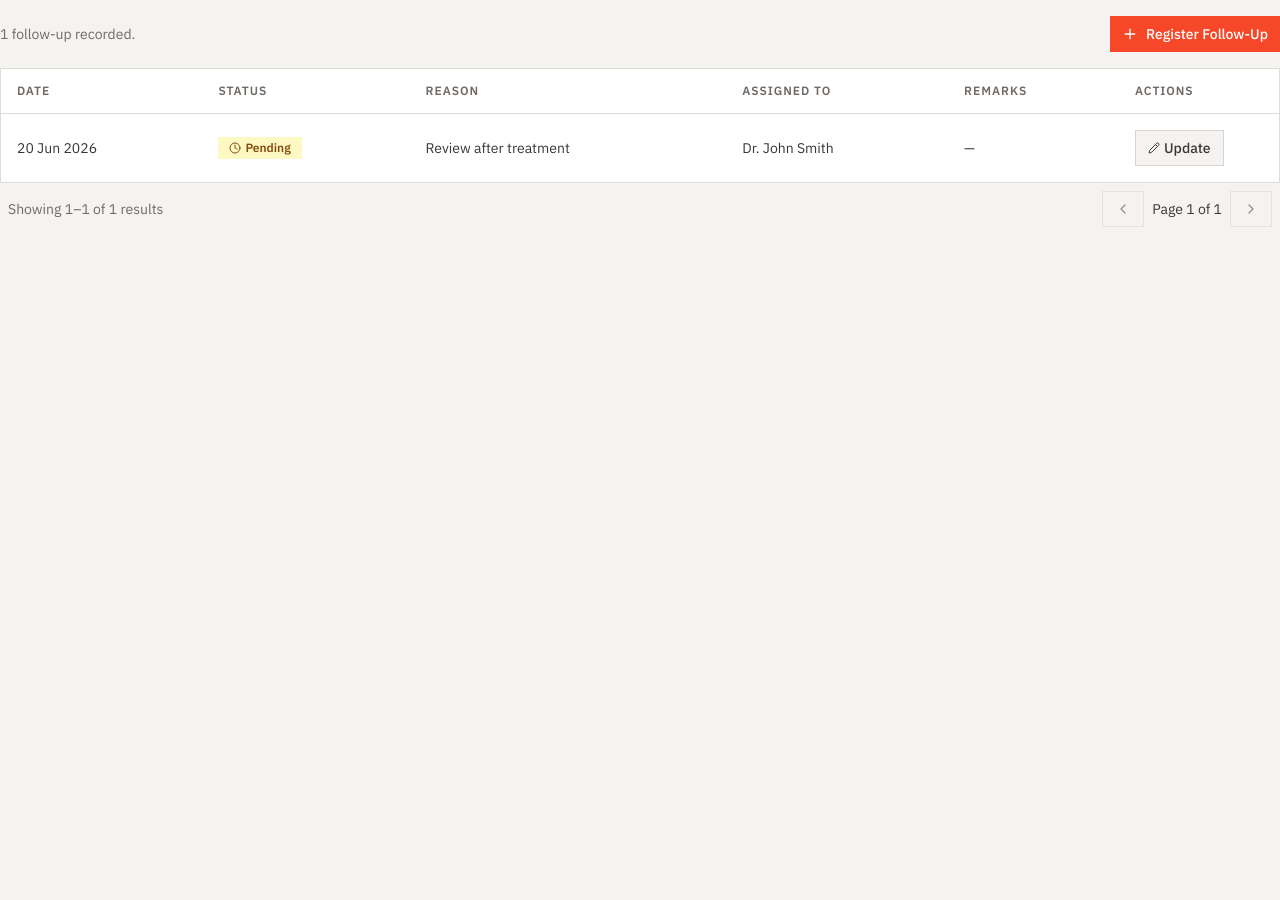
Test: FollowUpsTab — interactions › shows validation error if date is empty
expect the text "Review after treatment" is shown: met, box x1=426 y1=138 x2=570 y2=156
Click the button "Register Follow-Up". click: coordinates (1195, 34)
box: x1=1110 y1=16 x2=1279 y2=52
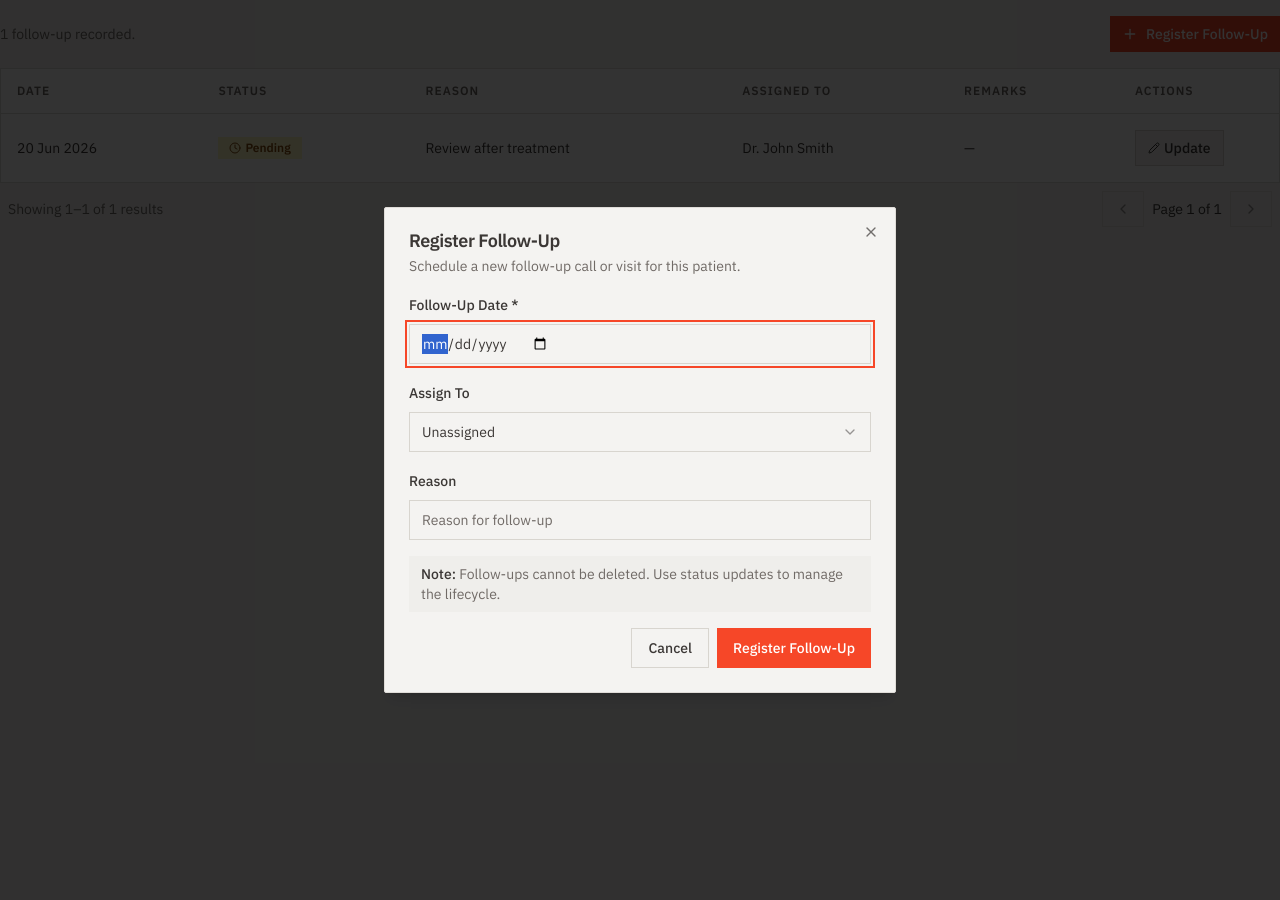
expect the submit button is shown: met
Click the submit button. click: coordinates (794, 648)
box: x1=717 y1=628 x2=871 y2=668
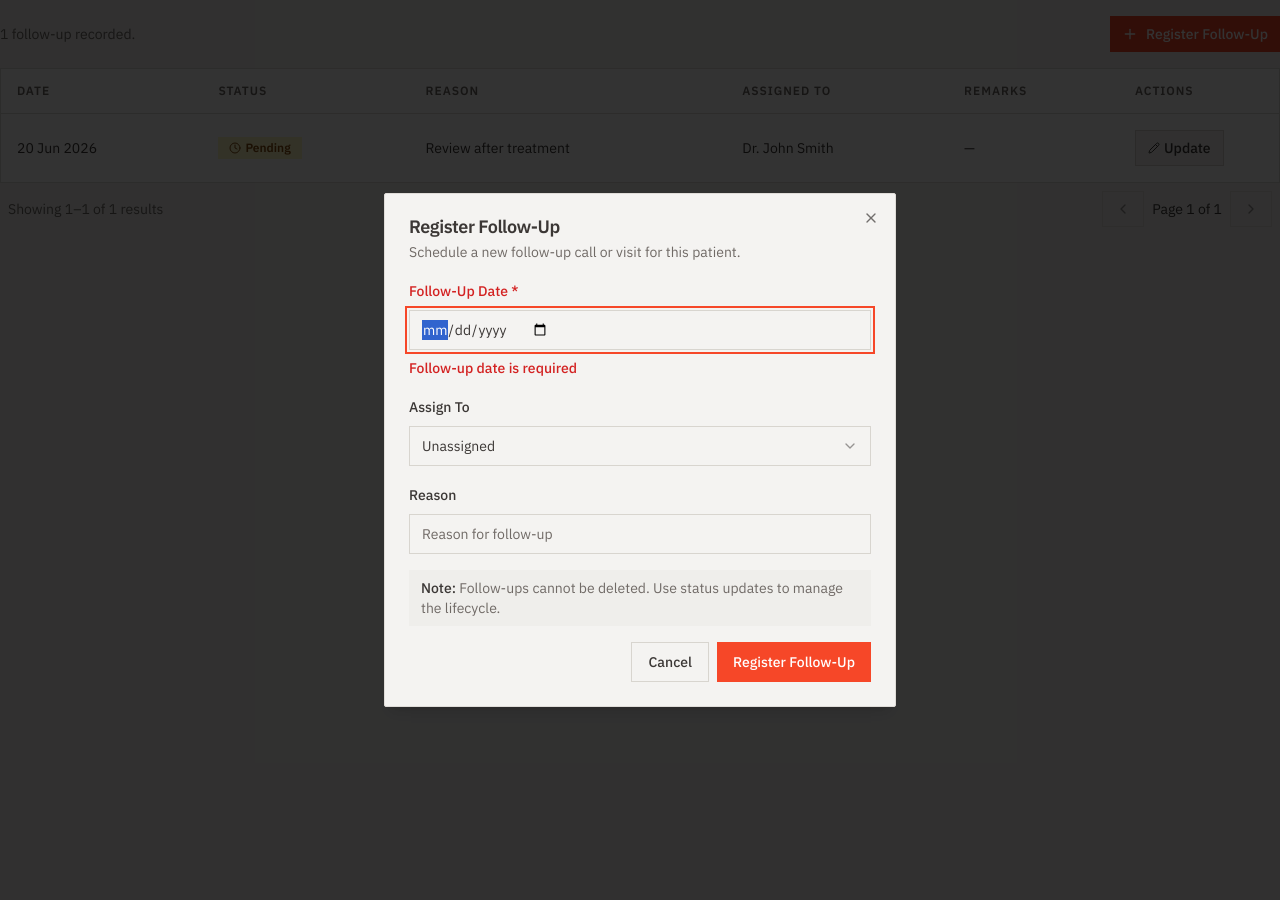
expect the text "Follow-up date is required" is shown: met, box x1=409 y1=359 x2=577 y2=377
